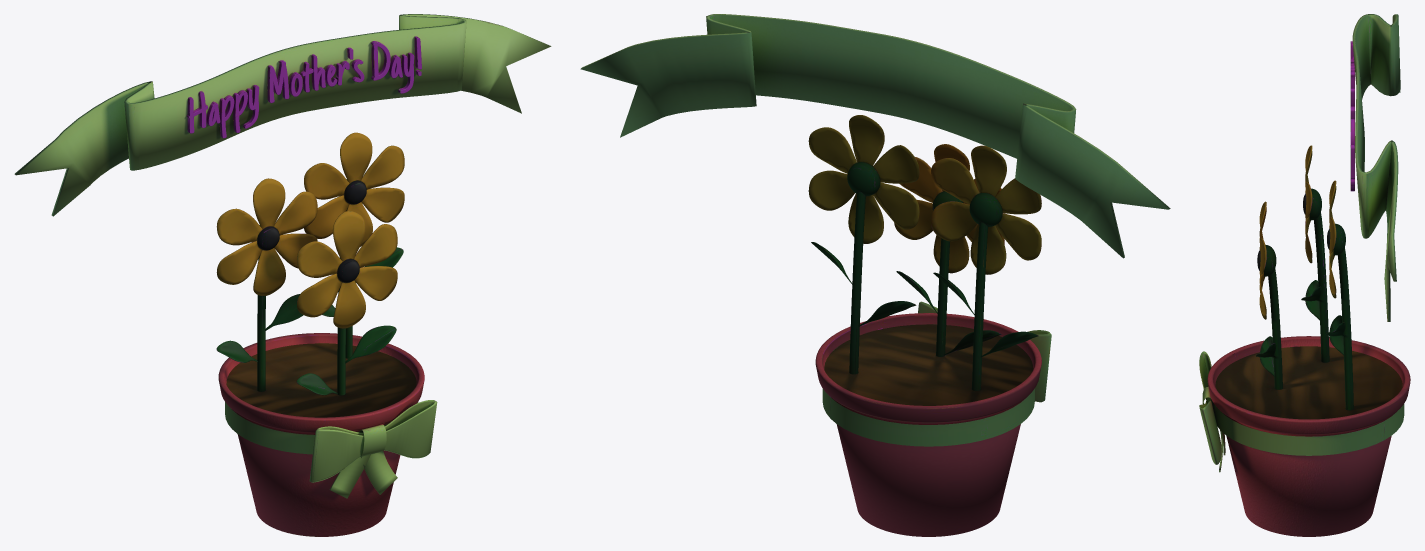
The model's file is mothers_day_flowers.glb.
3 views of the same model, side by side, from view 1: azimuth 30°, elevation 25°; view 2: azimuth 150°, elevation 25°; view 3: azimuth 270°, elevation 25° (orthographic). The views are drawn at different scales.
Parts seen in each view (by area): view 1: FlowerPot.003; view 2: FlowerPot.003; view 3: FlowerPot.003.
Part boxes in pixels (<box>): FlowerPot.003: <box>14,14,551,536</box>; FlowerPot.003: <box>580,14,1170,536</box>; FlowerPot.003: <box>1199,14,1410,536</box>.
Bounding box in the file's own units: 45.03 × 35.69 × 15.61.
1 material, 1 textured.
